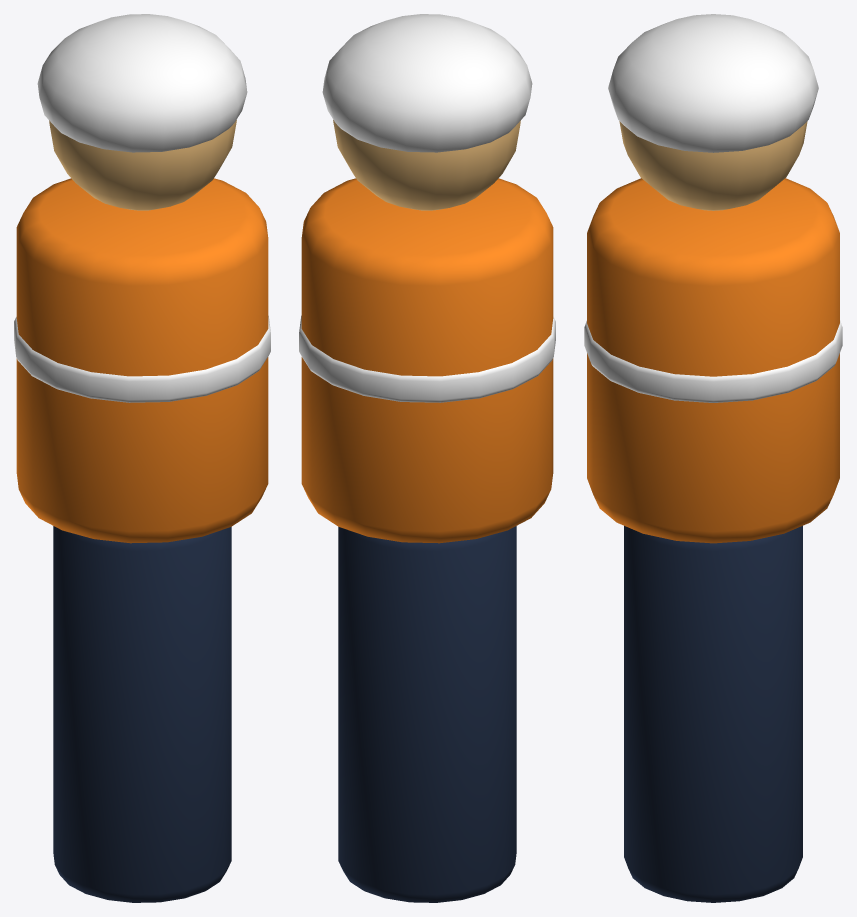
The model's file is trabajador.glb.
3 views of the same model, side by side, from view 1: azimuth 30°, elevation 25°; view 2: azimuth 150°, elevation 25°; view 3: azimuth 270°, elevation 25° (orthographic).
Visible parts, largest first — view 1: torso, piernas, casco, cabeza, franja; view 2: torso, piernas, casco, cabeza, franja; view 3: torso, piernas, casco, cabeza, franja.
Part boxes in pixels (x1,y1,x2,y2): torso: (16,178,268,543); piernas: (53,526,231,902); casco: (37,14,247,152); cabeza: (49,120,236,210); franja: (14,315,270,402); torso: (301,178,553,543); piernas: (338,526,516,902); casco: (322,14,532,152); cabeza: (333,120,520,210); franja: (299,315,555,402); torso: (587,178,839,543); piernas: (624,526,802,902); casco: (608,14,818,152); cabeza: (619,121,807,210); franja: (584,321,842,402).
Size of the model in its own units: 0.49 by 1.76 by 0.49.
